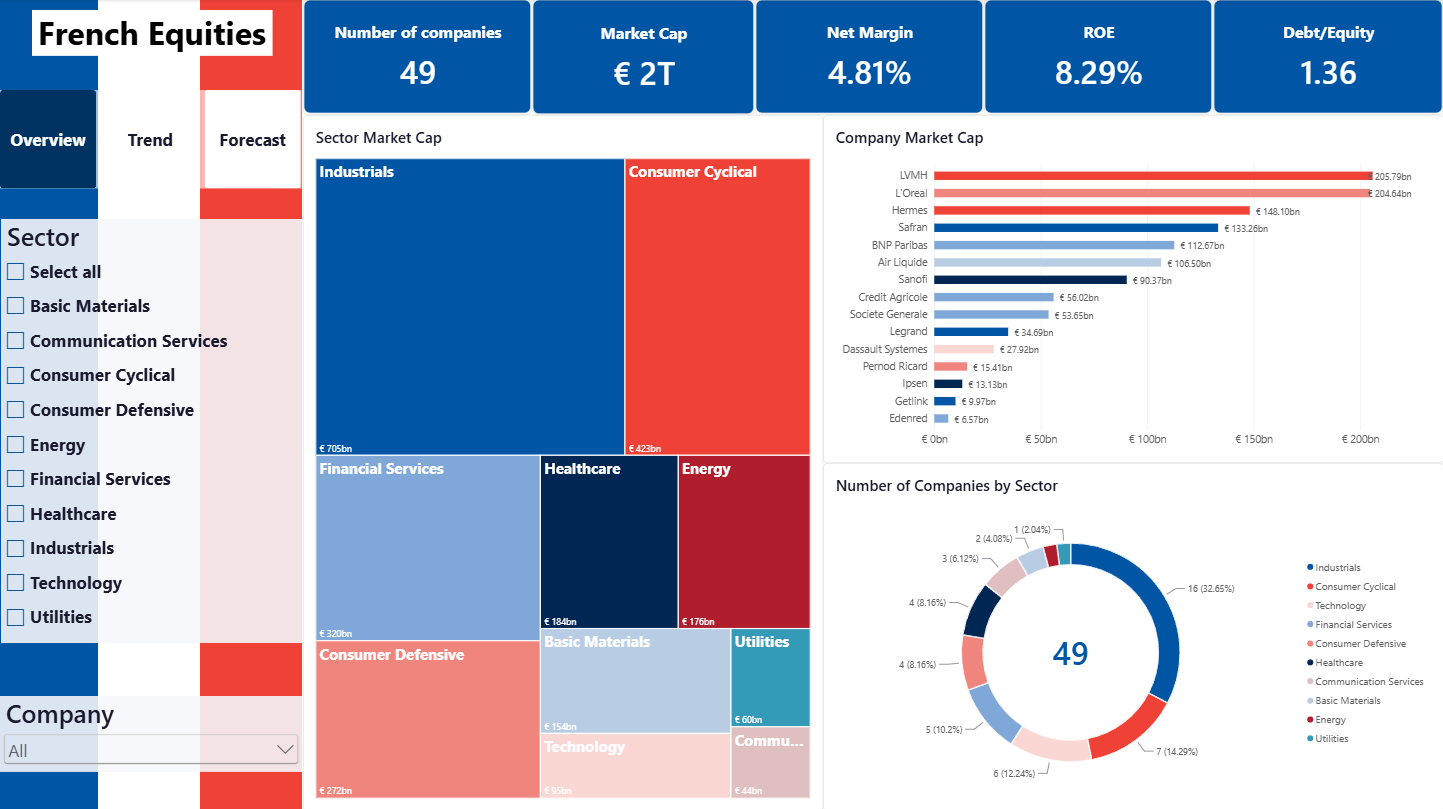

The dashboard page shown, as its layout file describes it:
{"tool":"powerbi","page":{"name":"Overview","canvas":[1920,1080],"ordinal":0},"visuals":[{"type":"barChart","title":"Company Market Cap","fields":{"Category":["companies.company_name"],"Series":["companies.sector"],"Y":["Avg(companies.market_cap)"]},"box":[1094.6,154.3,826,462.9],"z":0},{"type":"cardVisual","fields":{"Data":["Count(companies.ticker)"]},"box":[402.6,0,304.5,153.9],"z":1000},{"type":"cardVisual","fields":{"Data":["financial_ratios.Avg Net Margin (Latest)"]},"box":[1004.2,0,304.5,153.9],"z":2000},{"type":"cardVisual","fields":{"Data":["financial_ratios.Avg ROE (Latest)"]},"box":[1308.8,0,304.5,153.9],"z":3000},{"type":"shape","box":[0,0,135,1079.6],"z":4000},{"type":"shape","box":[129.8,0,135.7,1079.6],"z":5000},{"type":"shape","box":[265.5,0,135.7,1079.6],"z":6000},{"type":"pageNavigator","box":[0,121,401.2,131.3],"z":7000},{"type":"textbox","box":[42.3,14.6,319.5,61.3],"z":8000},{"type":"treemap","title":"Sector Market Cap","fields":{"Group":["companies.sector"],"Values":["Sum(companies.market_cap)"]},"box":[403,154.3,691.6,925.7],"z":9000},{"type":"cardVisual","fields":{"Data":["Sum(companies.market_cap)"]},"box":[707.6,0,296.6,154.3],"z":10000},{"type":"cardVisual","fields":{"Data":["Avg(financial_ratios.debt_to_equity)"]},"box":[1613.8,0,306.2,153.9],"z":11000},{"type":"slicer","fields":{"Values":["companies.company_name"]},"box":[0,927,401.7,101.1],"z":12000},{"type":"slicer","fields":{"Values":["companies.sector"]},"box":[1.3,292.6,401.7,563.9],"z":13000},{"type":"donutChart","fields":{"Category":["companies.sector"],"Y":["CountNonNull(companies.ticker)"]},"box":[1094.6,617.1,826,462.9],"z":14000}]}

Visuals, with their boxes in screenshot pixels (x1, y1, x2, y2), scaled from the page's 1920x1080 canvas onto the 1443x809 screenshot:
"Company Market Cap" barChart: <box>823,116,1442,462</box>
cardVisual - Count(companies.ticker): <box>303,0,531,115</box>
cardVisual - financial_ratios.Avg Net Margin (Latest): <box>755,0,984,115</box>
cardVisual - financial_ratios.Avg ROE (Latest): <box>984,0,1212,115</box>
shape: <box>0,0,101,808</box>
shape: <box>98,0,200,808</box>
shape: <box>200,0,302,808</box>
pageNavigator: <box>0,91,302,189</box>
textbox: <box>32,11,272,57</box>
"Sector Market Cap" treemap: <box>303,116,823,808</box>
cardVisual - Sum(companies.market_cap): <box>532,0,755,116</box>
cardVisual - Avg(financial_ratios.debt_to_equity): <box>1213,0,1442,115</box>
slicer - companies.company_name: <box>0,694,302,770</box>
slicer - companies.sector: <box>1,219,303,642</box>
donutChart - companies.sector x CountNonNull(companies.ticker): <box>823,462,1442,808</box>
